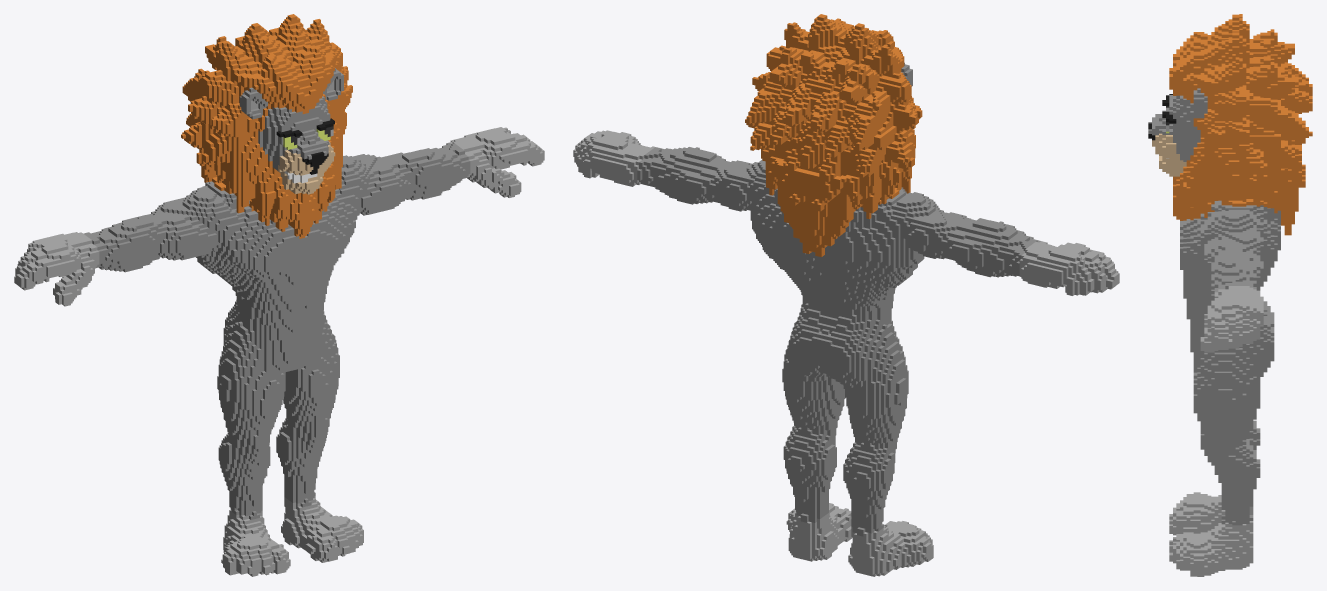
Rendered from 1091-C9ImHSuh.fbx.
3 views of the same model, side by side, from view 1: azimuth 30°, elevation 25°; view 2: azimuth 150°, elevation 25°; view 3: azimuth 270°, elevation 25° (orthographic). The views are drawn at different scales.
Visible parts, largest first — view 1: grin; view 2: grin; view 3: grin.
Boxes of the visible parts, box(x1,y1,x2,y2) form: grin: box(14, 14, 544, 576); grin: box(573, 14, 1119, 576); grin: box(1148, 14, 1312, 576).
Size of the model in its own units: 17.2 by 16.5 by 4.7.
Materials: 4 (4 with a texture image).
